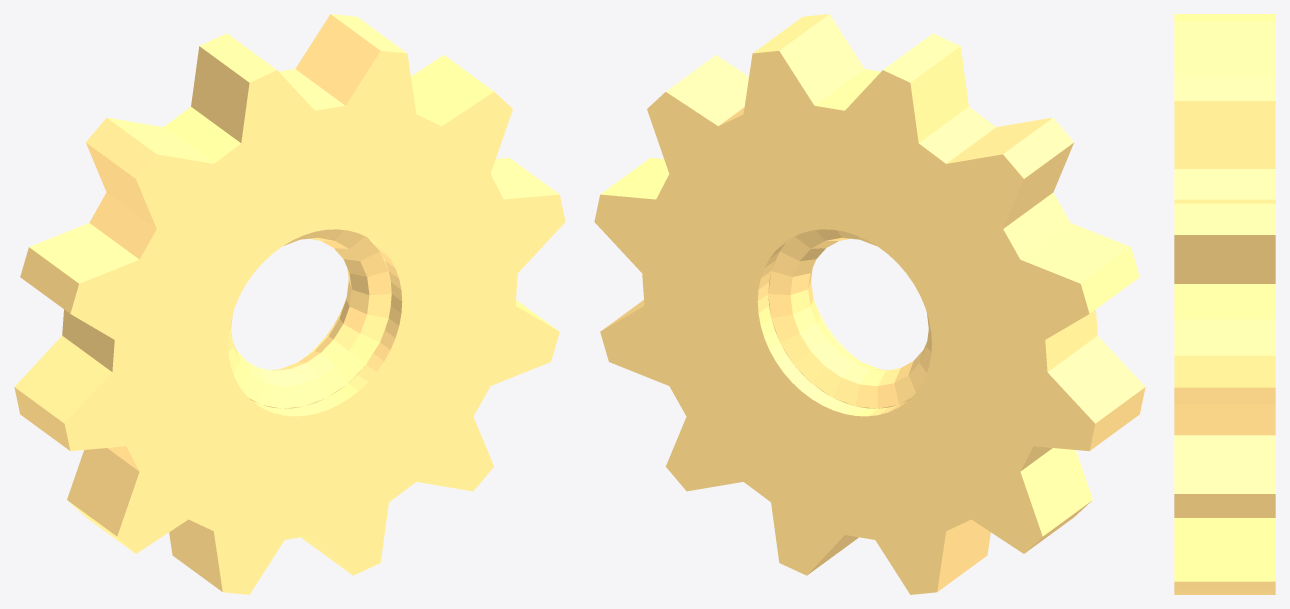
The model's file is Refaccion_Engrane.glb.
3 views of the same model, side by side, from view 1: azimuth 30°, elevation 25°; view 2: azimuth 150°, elevation 25°; view 3: azimuth 270°, elevation 25° (orthographic).
Visible parts, largest first — view 1: Refaccion_Engrane; view 2: Refaccion_Engrane; view 3: Refaccion_Engrane.
Boxes of the visible parts, box(x1,y1,x2,y2) form: Refaccion_Engrane: box(14, 14, 565, 594); Refaccion_Engrane: box(594, 14, 1145, 594); Refaccion_Engrane: box(1174, 14, 1275, 594).
Size of the model in its own units: 0.3164 by 0.3164 by 0.055.
